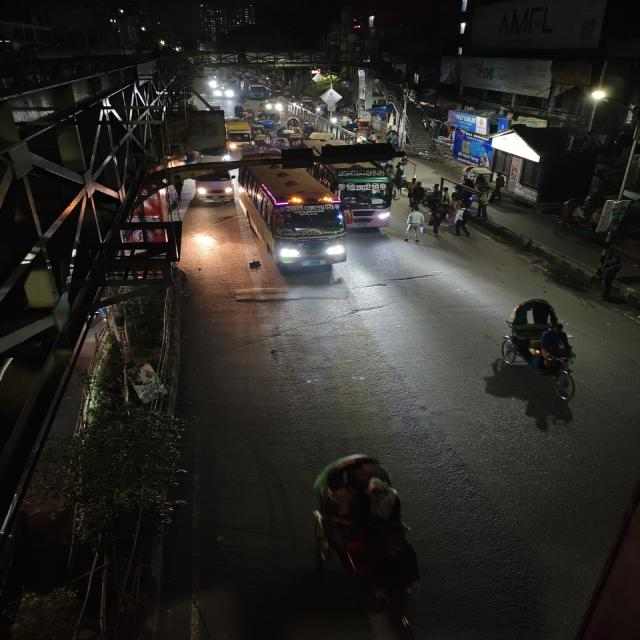bus: (241, 167, 350, 276), (326, 167, 396, 239), (213, 78, 239, 99), (243, 82, 268, 101)
car: (193, 165, 240, 213), (266, 99, 284, 114)
human_hauler: (225, 120, 254, 152)
pedestrian: (406, 205, 426, 244), (451, 205, 472, 237), (411, 183, 435, 210), (426, 206, 444, 238), (477, 184, 493, 218), (405, 178, 421, 196), (430, 181, 440, 203), (442, 187, 451, 209)
rickshaw: (273, 450, 441, 628), (488, 286, 599, 406), (254, 136, 274, 153), (284, 116, 303, 133), (289, 135, 304, 150), (274, 137, 290, 151), (232, 104, 245, 118), (266, 120, 277, 134)
